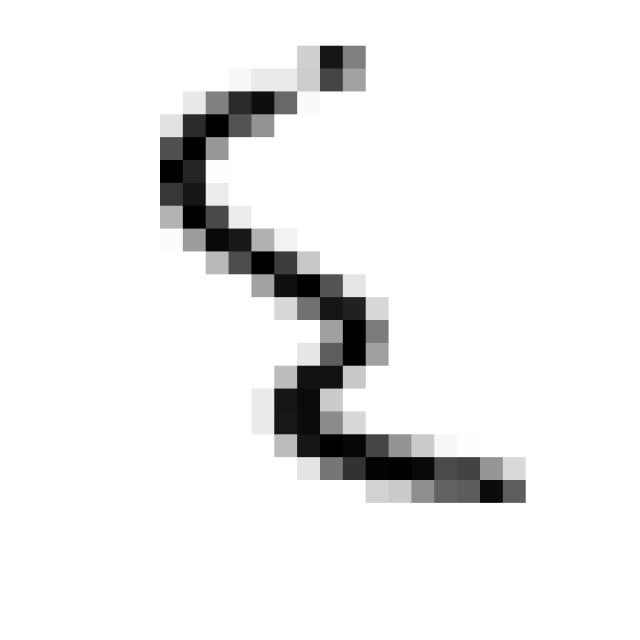4 -four-: (142, 21, 550, 524)
